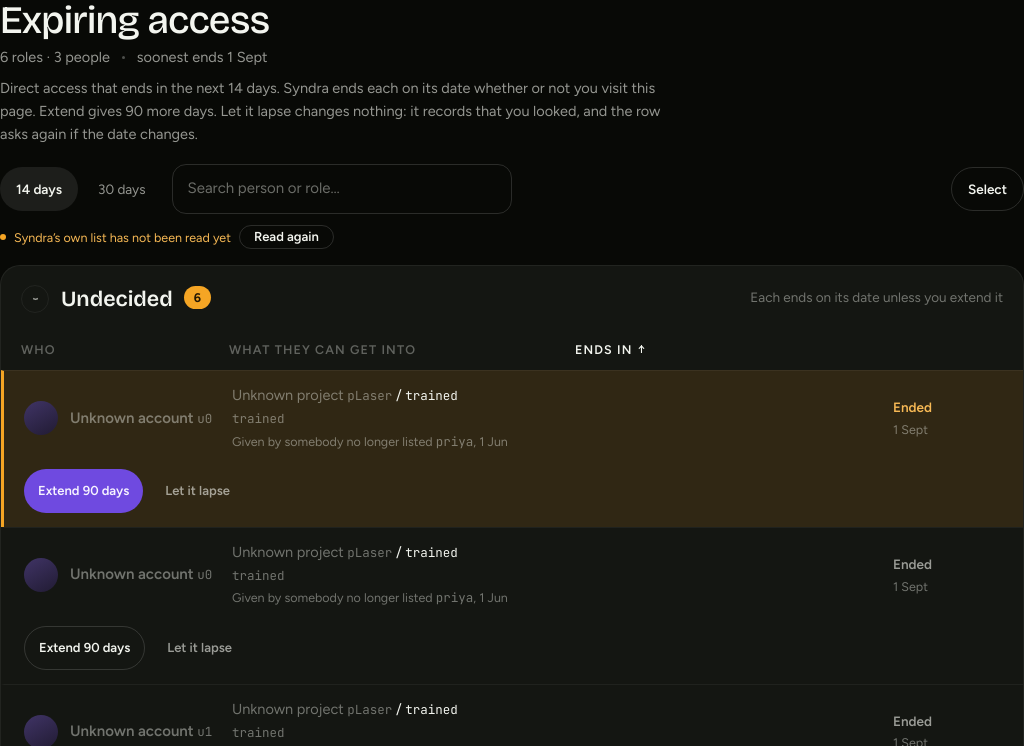
the expiry queue gates on people, not on grants › lets six grants through when they belong to three people
Click the button "Select" at (988, 189), box [951, 167, 1023, 211]
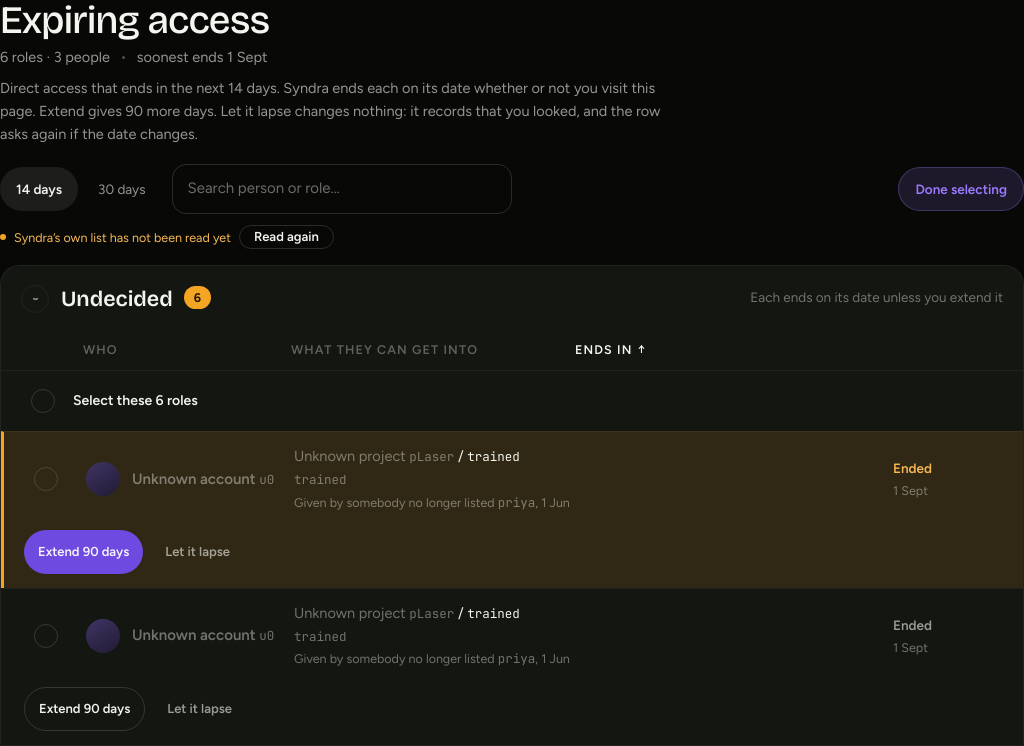
Click the 1st checkbox labelled "Select these 6 roles" at (135, 401), box [1, 370, 1023, 431]
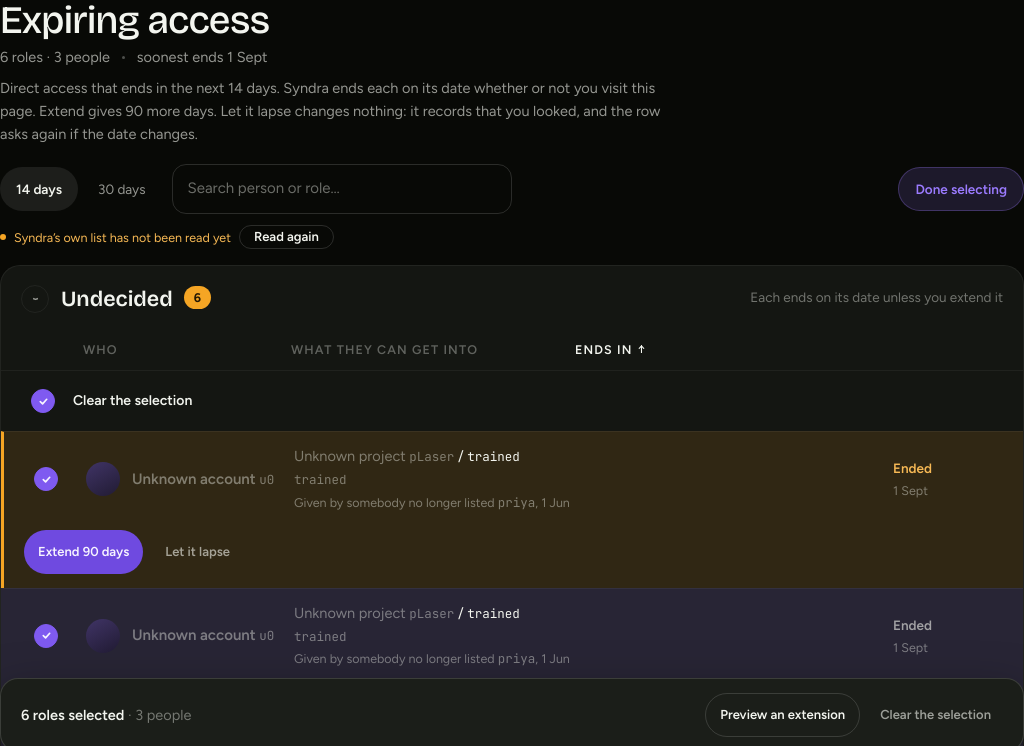
Check: the button "Preview an extension" is shown, box [705, 693, 860, 737]
